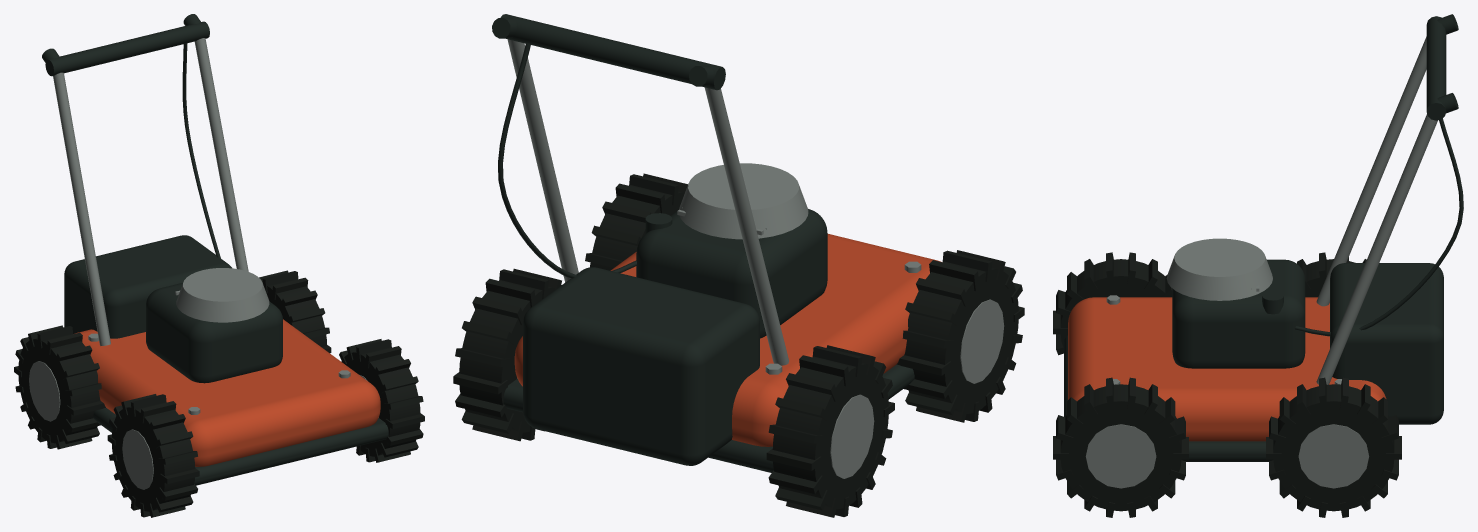
Rendered from mower.glb.
3 views of the same model, side by side, from view 1: azimuth 30°, elevation 25°; view 2: azimuth 150°, elevation 25°; view 3: azimuth 270°, elevation 25° (orthographic). The views are drawn at different scales.
Parts seen in each view (by area): view 1: Garden mower, wheel_1, wheel_0, wheel_3, wheel_2; view 2: Garden mower, wheel_0, wheel_1, wheel_2, wheel_3; view 3: Garden mower, wheel_2, wheel_3, wheel_1, wheel_0.
Boxes of the visible parts, <box> form: Garden mower: <box>42,14,388,485</box>; wheel_1: <box>107,394,199,517</box>; wheel_0: <box>14,325,105,449</box>; wheel_3: <box>339,339,424,462</box>; wheel_2: <box>259,270,331,353</box>; Garden mower: <box>492,14,940,472</box>; wheel_0: <box>766,345,894,517</box>; wheel_1: <box>896,250,1024,422</box>; wheel_2: <box>453,268,561,441</box>; wheel_3: <box>585,173,687,270</box>; Garden mower: <box>1064,14,1463,461</box>; wheel_2: <box>1266,377,1401,517</box>; wheel_3: <box>1053,377,1188,517</box>; wheel_1: <box>1053,252,1172,355</box>; wheel_0: <box>1297,252,1366,297</box>.
Size of the model in its own units: 0.892 by 1.14 by 1.08.
